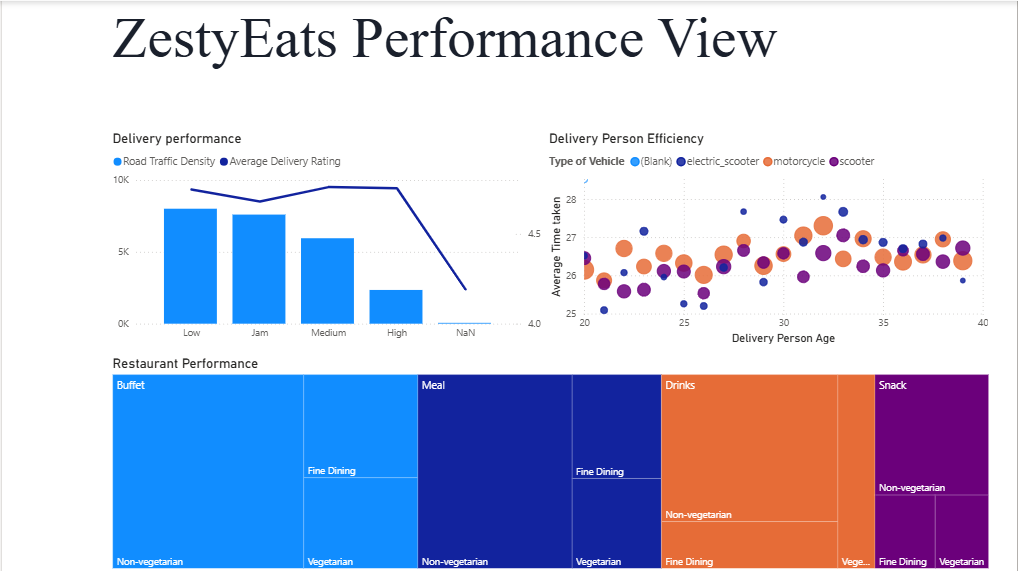

Layout of this report page (visuals, bound fields, positions):
{"tool":"powerbi","page":{"name":"Performance","canvas":[1280,720],"ordinal":2},"visuals":[{"type":"lineClusteredColumnComboChart","title":"Delivery performance","fields":{"Category":["Delivery_details.Road Traffic Density"],"Y":["CountNonNull(Delivery_details.Road Traffic Density)"],"Y2":["Avg(Delivery_details.Delivery Person Ratings)"]},"box":[134.8,161.7,549.5,273.7],"z":1},{"type":"treemap","title":"Restaurant Performance","fields":{"Details":["Restaurant_details.Food Category"],"Group":["Order_details.Type Of Order"],"Values":["Order_details.Total Sales"]},"box":[134.8,445.8,1113.4,273.7],"z":3},{"type":"textbox","box":[134.2,0,1012.9,102],"z":4},{"type":"scatterChart","title":"Delivery Person Efficiency","fields":{"Series":["Delivery_person_details.Type_of_vehicle"],"Size":["CountNonNull(Delivery_person_details.Vehicle_condition)"],"X":["Delivery_person_details.Delivery_person_Age"],"Y":["Avg(Delivery_details.Time Taken (Min))"]},"box":[684.1,162.5,563.2,274],"z":5}]}

Visuals, with their boxes in screenshot pixels (x1, y1, x2, y2), scaled from the page's 1280x720 canvas onto the 1018x571 screenshot:
"Delivery performance" lineClusteredColumnComboChart: [x1=107, y1=128, x2=544, y2=345]
"Restaurant Performance" treemap: [x1=107, y1=354, x2=993, y2=570]
textbox: [x1=107, y1=0, x2=912, y2=81]
"Delivery Person Efficiency" scatterChart: [x1=544, y1=129, x2=992, y2=346]
